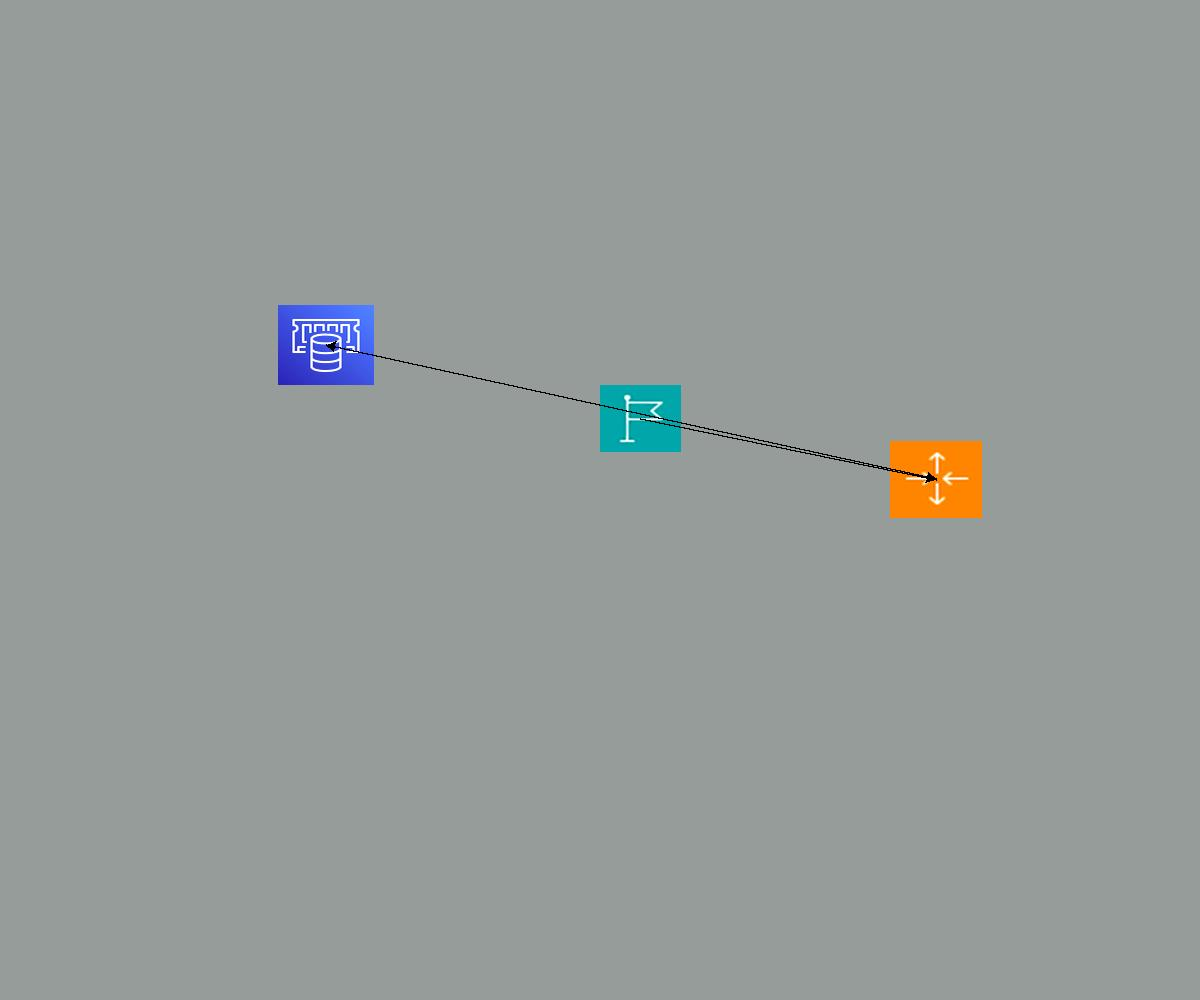AWS-ElastiCache: (278, 305, 374, 385)
AWS-Region: (600, 385, 681, 452)
AWS-Scaling-group: (890, 441, 982, 518)
